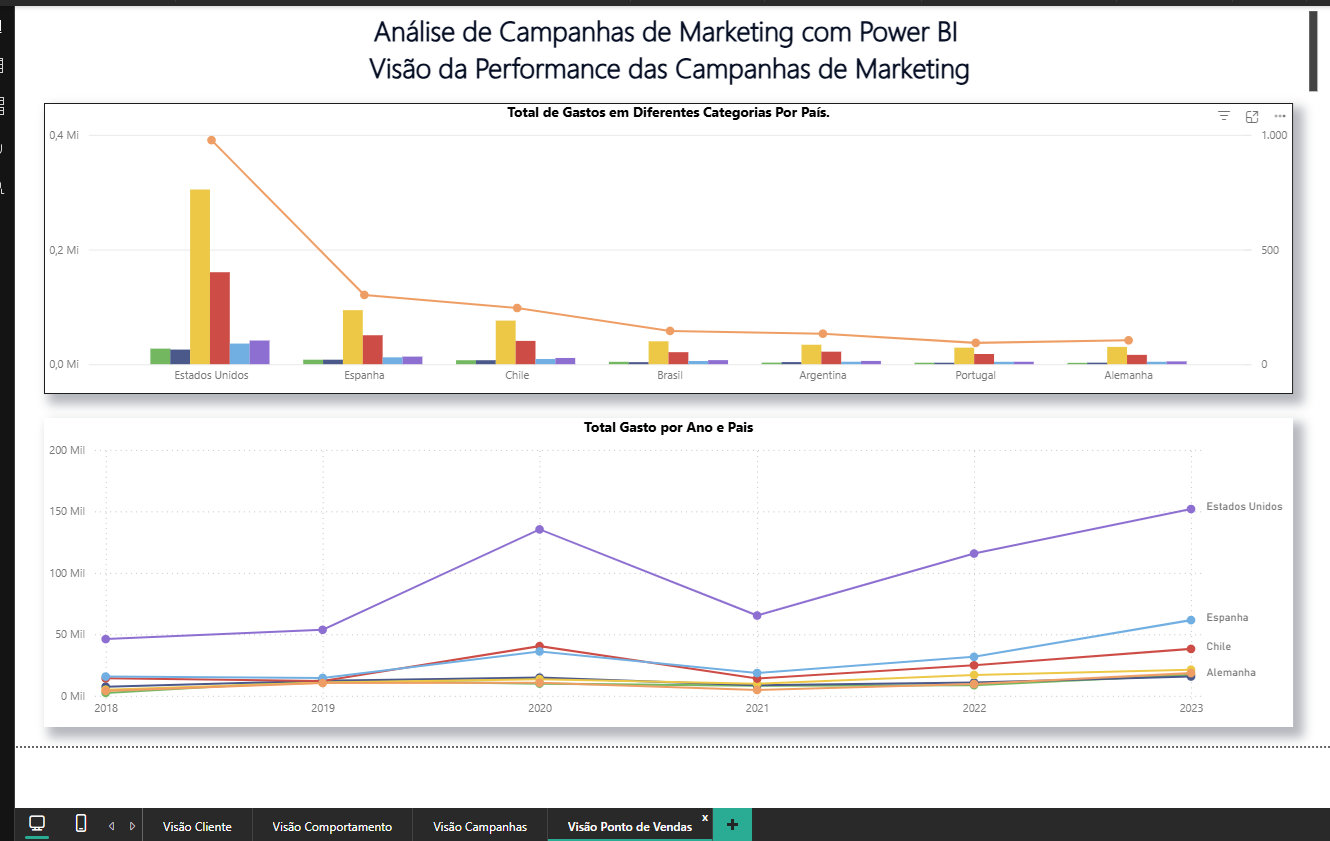

This screenshot's page, from the dashboard's own definition file:
{"tool":"powerbi","page":{"name":"Visão Ponto de Vendas","canvas":[1280,720],"ordinal":3},"visuals":[{"type":"textbox","box":[9.7,0,1262.5,94.3],"z":0},{"type":"lineClusteredColumnComboChart","title":"Total de Gastos em Diferentes Categorias Por País. ","fields":{"Category":["data.Pais"],"Y":["Sum(data.Gasto com Alimentos)","Sum(data.Gasto com Brinquedos)","Sum(data.Gasto com Eletronicos)","Sum(data.Gasto com Moveis)","Sum(data.Gasto com Utilidades)","Sum(data.Gasto com Vestuario)"],"Y2":["CountNonNull(data.ID)"]},"box":[28.2,94.3,1214.8,283],"z":1000},{"type":"lineChart","fields":{"Y":["data.Total Gasto"],"Series":["data.Pais"],"Category":["data.Data Cadastro.Variation.Hierarquia de datas.Ano"]},"box":[28.2,400.7,1214.8,300.5],"z":2000}]}

Visuals, with their boxes on the page's 1280x720 design canvas (x1, y1, x2, y2). These are canvas units, not pixel positions in the 1330x841 screenshot, which may show the page scaled, cropped or inside an application window:
textbox: 10 0 1272 94
"Total de Gastos em Diferentes Categorias Por País. " lineClusteredColumnComboChart: 28 94 1243 377
lineChart - data.Total Gasto x data.Pais: 28 401 1243 701
